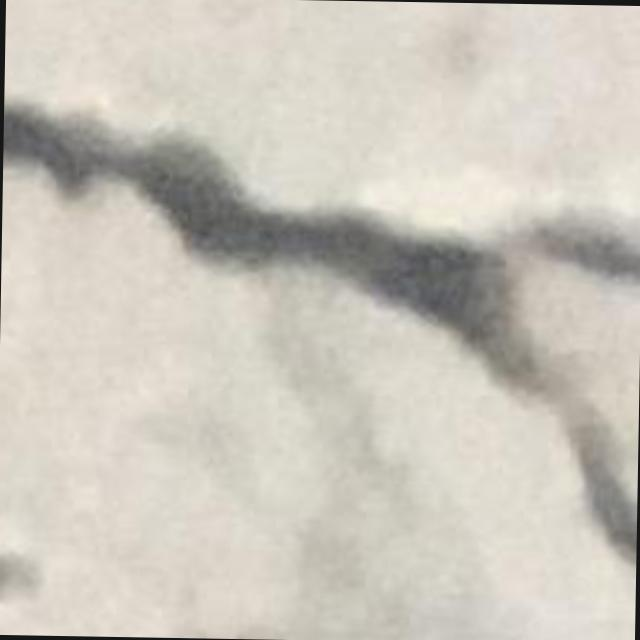crack: (3, 110, 639, 560)
